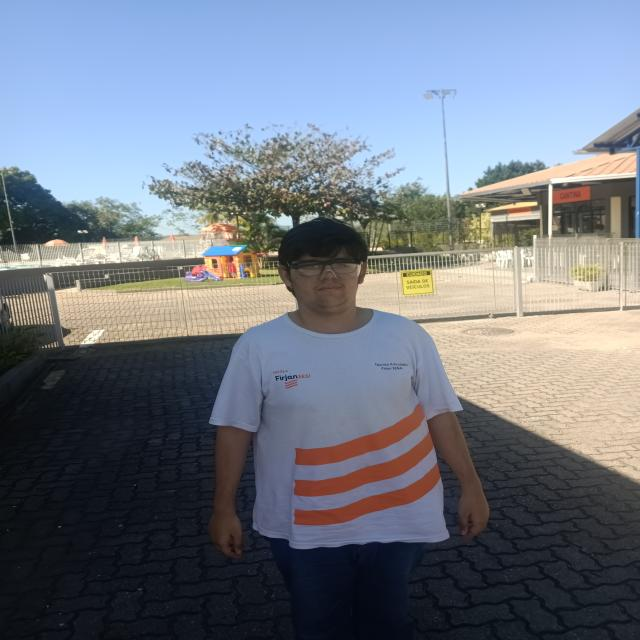oculos-epi: (288, 258, 362, 280)
